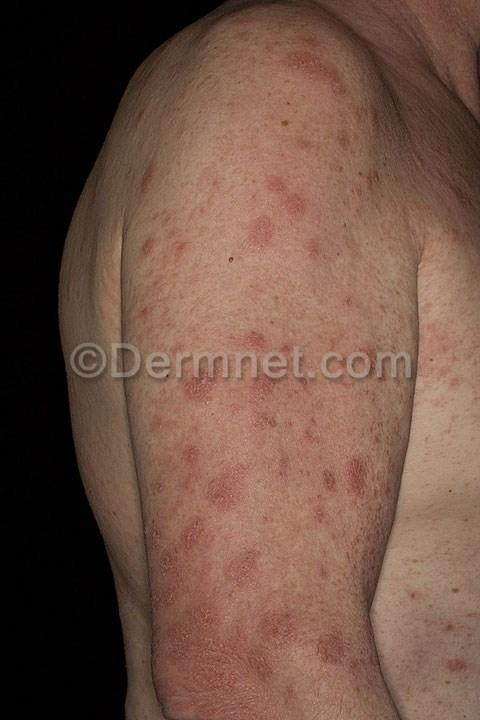Eczema: (147, 439, 283, 598), (249, 606, 376, 697), (241, 160, 320, 257), (271, 40, 367, 110), (314, 435, 375, 515), (183, 376, 229, 407)
